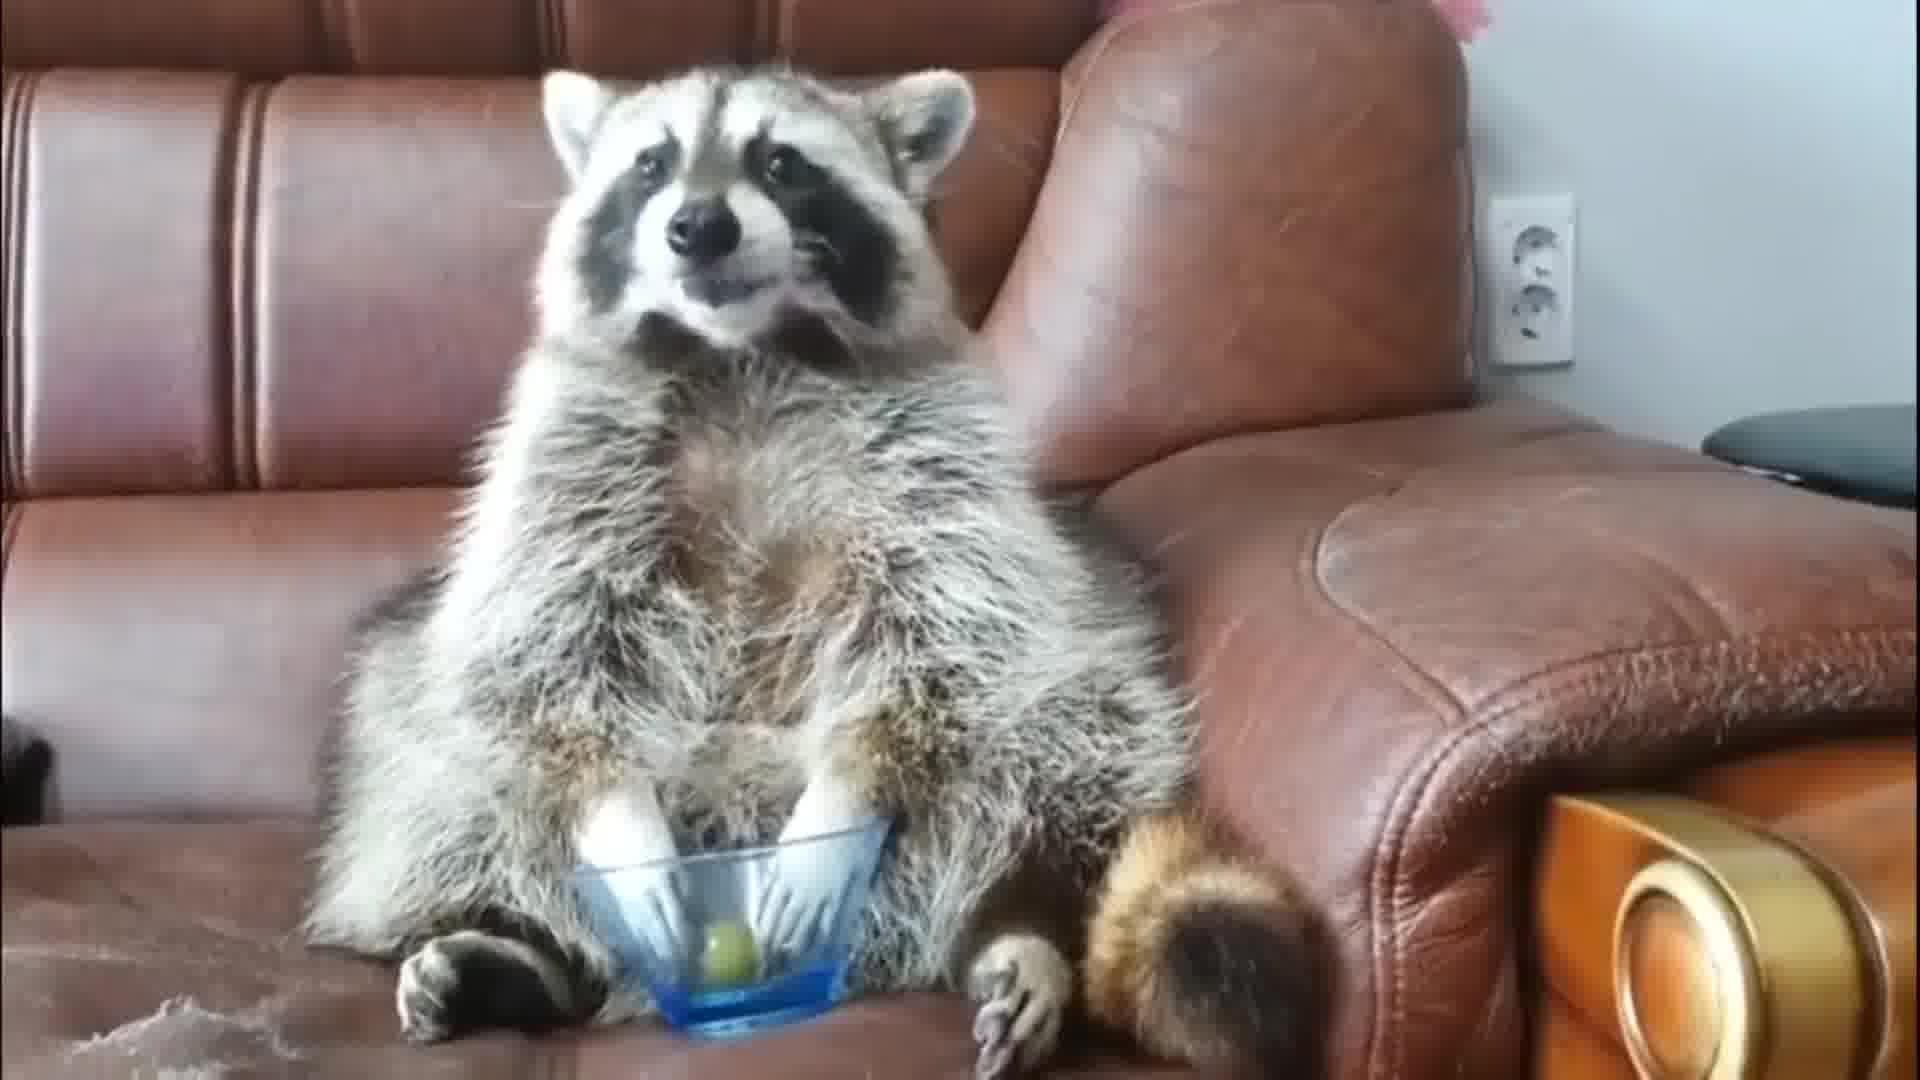raccoon: (301, 44, 1349, 1080)
